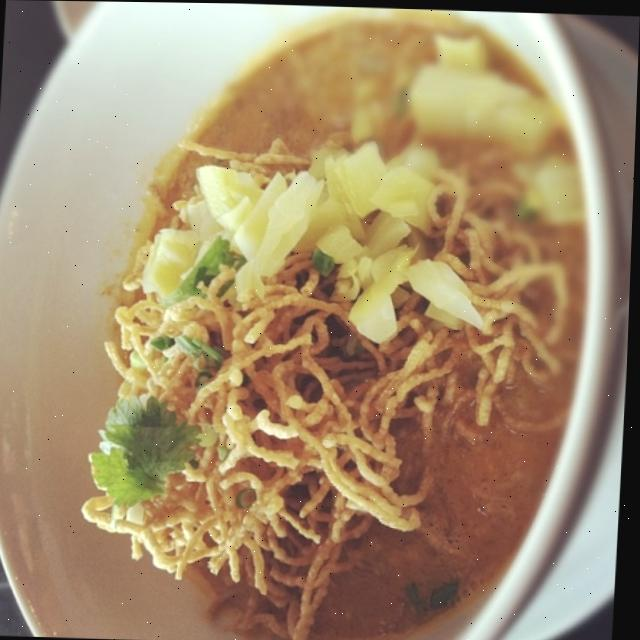面条主食: (7, 4, 622, 640)
